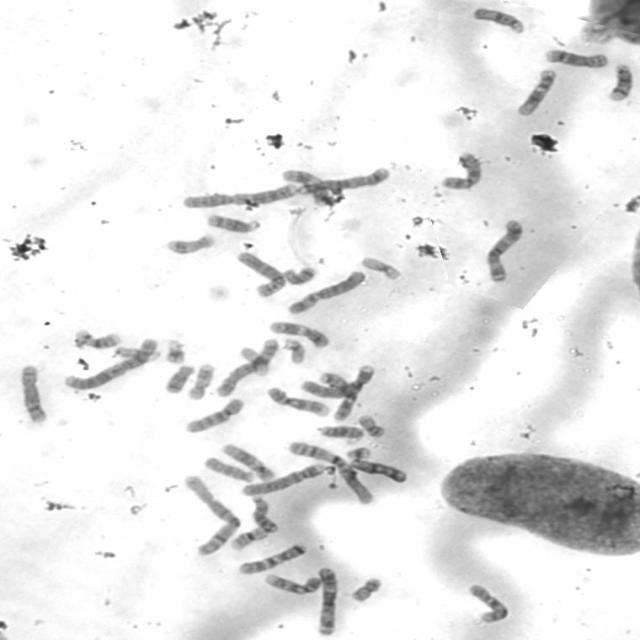A1: (284, 439, 376, 505), (180, 473, 243, 556)
A2: (61, 333, 159, 392), (178, 180, 297, 210)
A3: (482, 215, 526, 284), (312, 564, 340, 637)
B4: (296, 361, 378, 400), (238, 461, 326, 497)
B5: (214, 336, 280, 398), (292, 164, 392, 197)
C10: (180, 394, 247, 435), (465, 582, 510, 624)
C11: (278, 167, 333, 206), (267, 318, 331, 349)
C12: (219, 441, 277, 482), (514, 67, 558, 117)
C6: (285, 268, 367, 316), (233, 249, 287, 299)
C7: (234, 542, 308, 576), (315, 368, 359, 423)
C8: (16, 361, 52, 425), (541, 45, 611, 70)
C9: (262, 383, 332, 418), (260, 570, 322, 596)
D13: (246, 492, 278, 533), (316, 424, 367, 445)
D14: (603, 58, 637, 103), (201, 211, 261, 234)
D15: (468, 4, 527, 35), (200, 454, 256, 483)
E16: (70, 326, 124, 351), (227, 525, 269, 551)
E17: (185, 361, 218, 401), (162, 232, 216, 255)
E18: (160, 362, 195, 395), (280, 264, 318, 286)
F19: (358, 254, 404, 282), (237, 344, 271, 376)
F20: (347, 574, 384, 602), (354, 413, 388, 439)
G21: (160, 336, 189, 366), (343, 445, 373, 461)
G22: (115, 342, 163, 366), (279, 335, 310, 363)
X: (436, 151, 484, 191), (345, 455, 410, 483)
